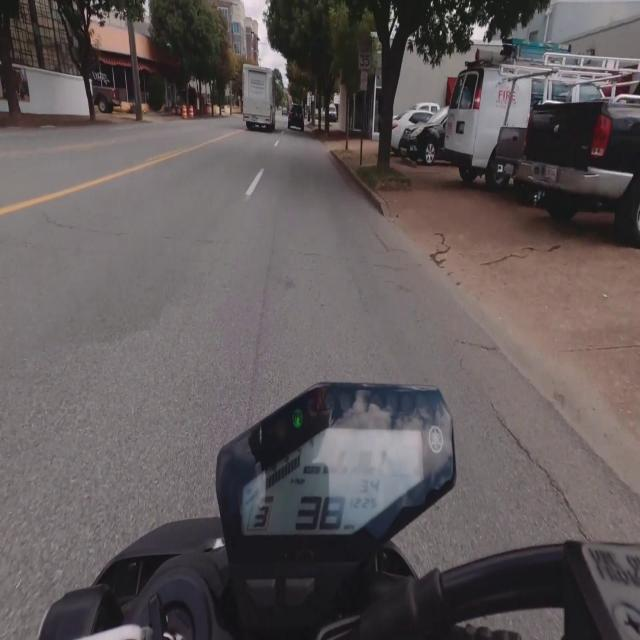car: (288, 104, 304, 131), (328, 103, 338, 123), (282, 107, 288, 116)
motorcycle: (39, 384, 639, 639)
